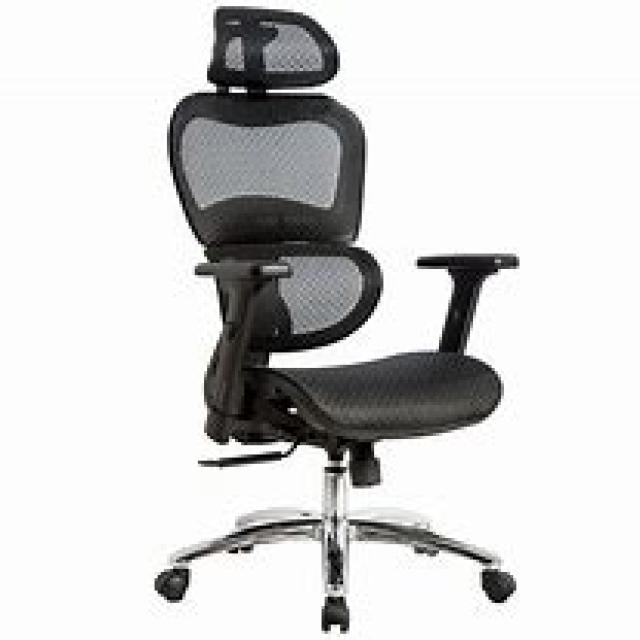chair: (152, 3, 520, 634)
